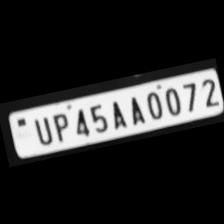0: (140, 88, 165, 122), (158, 84, 183, 118)
2: (194, 74, 222, 110)
4: (66, 104, 90, 138)
5: (84, 100, 110, 134)
7: (177, 78, 200, 114)
A: (104, 96, 128, 130), (122, 91, 145, 126)
P: (48, 109, 72, 143)
U: (27, 113, 54, 148)
